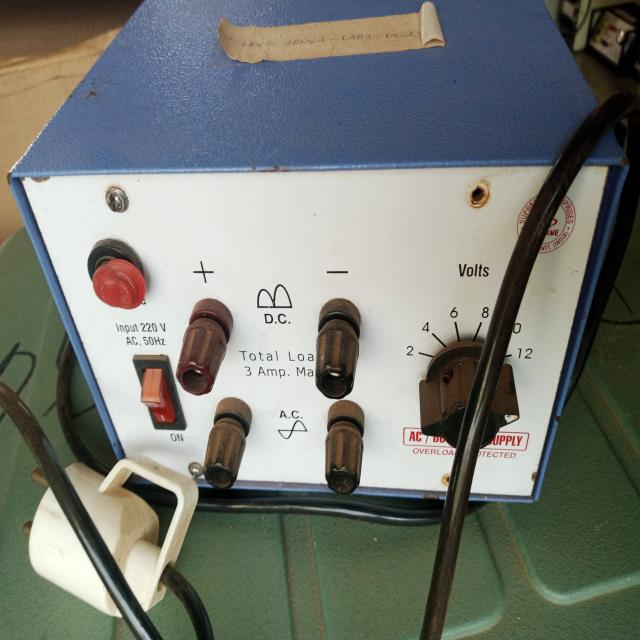AC and DC Power Supply 12 V: (16, 6, 631, 503)
